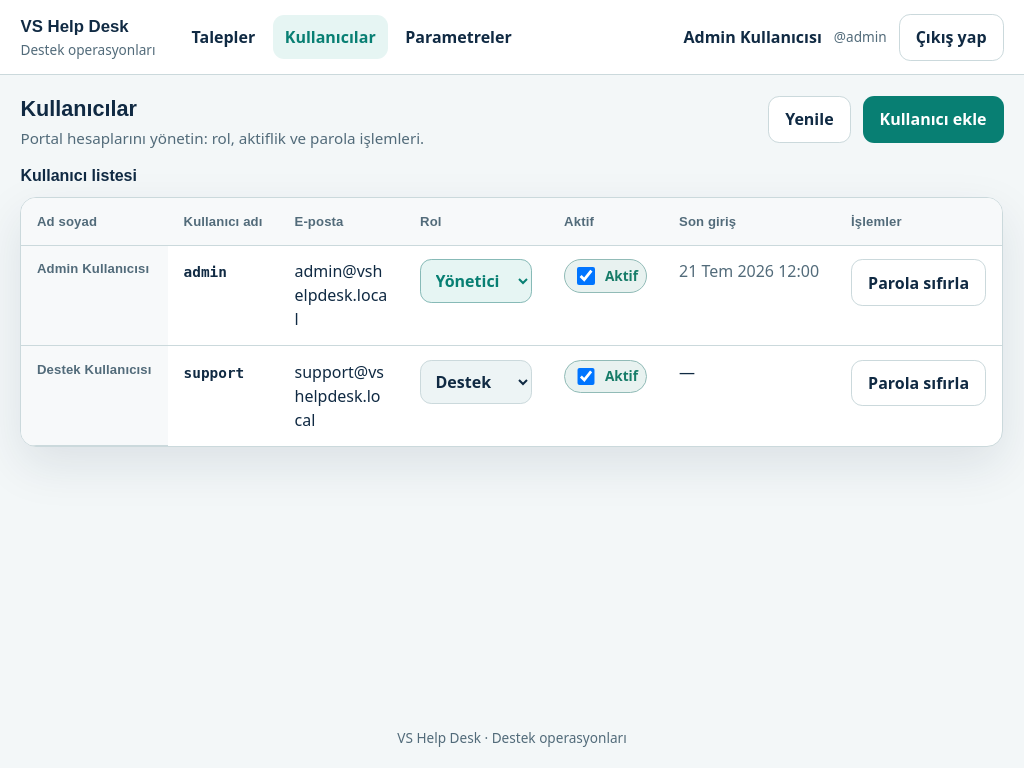
UsersPage › opens create dialog and submits a new user
Expected: the table is shown, [22,198,1003,446]
Click the button "Kullanıcı ekle".
click(933, 119)  # box [863,96,1004,143]
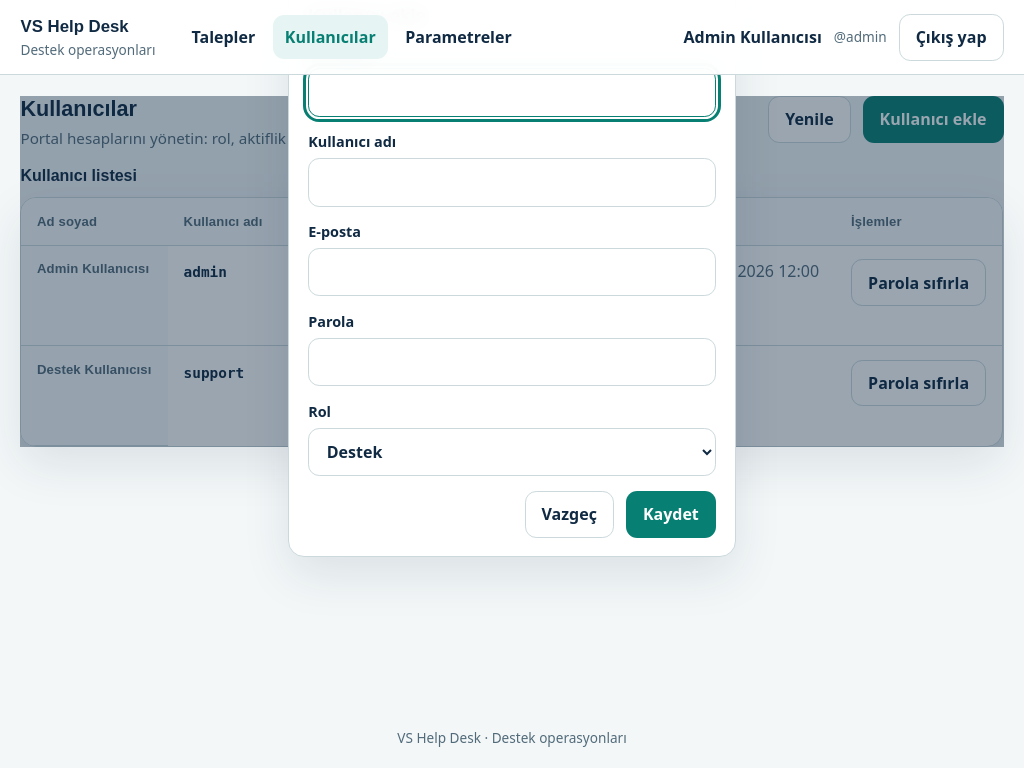
Type "Yeni Destek" into the field labelled "Ad soyad".
click(512, 92); type("Yeni Destek")  # box [308,68,716,117]
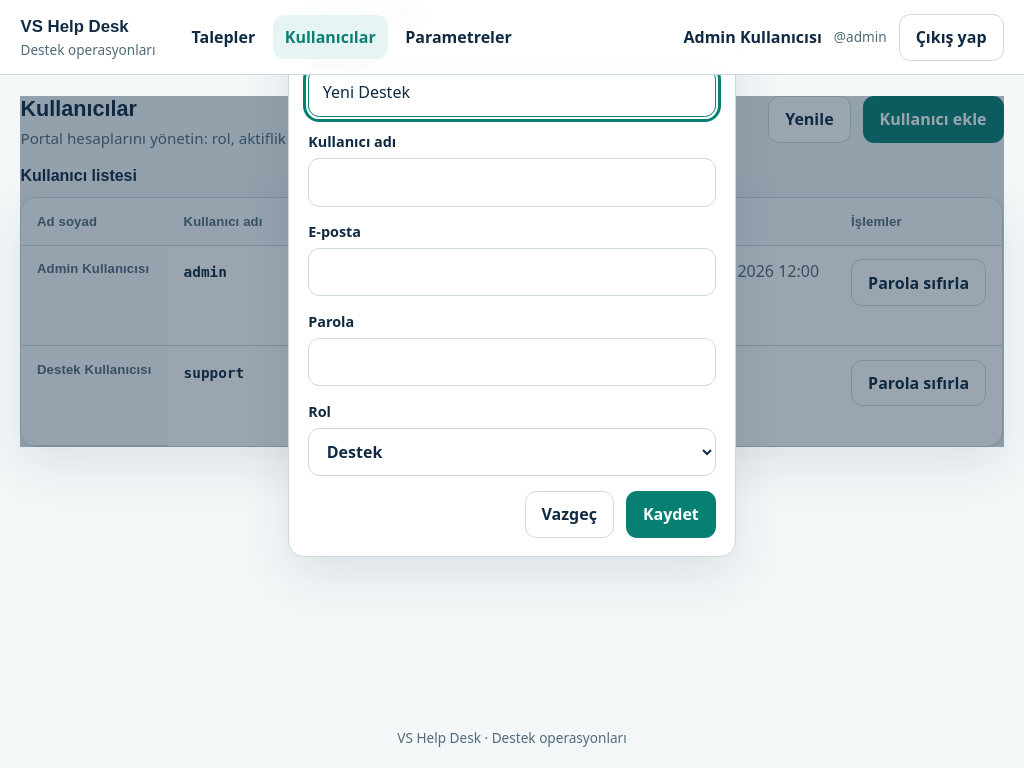
Type "support2" into the field labelled "Kullanıcı adı".
click(512, 182); type("support2")  # box [308,158,716,206]
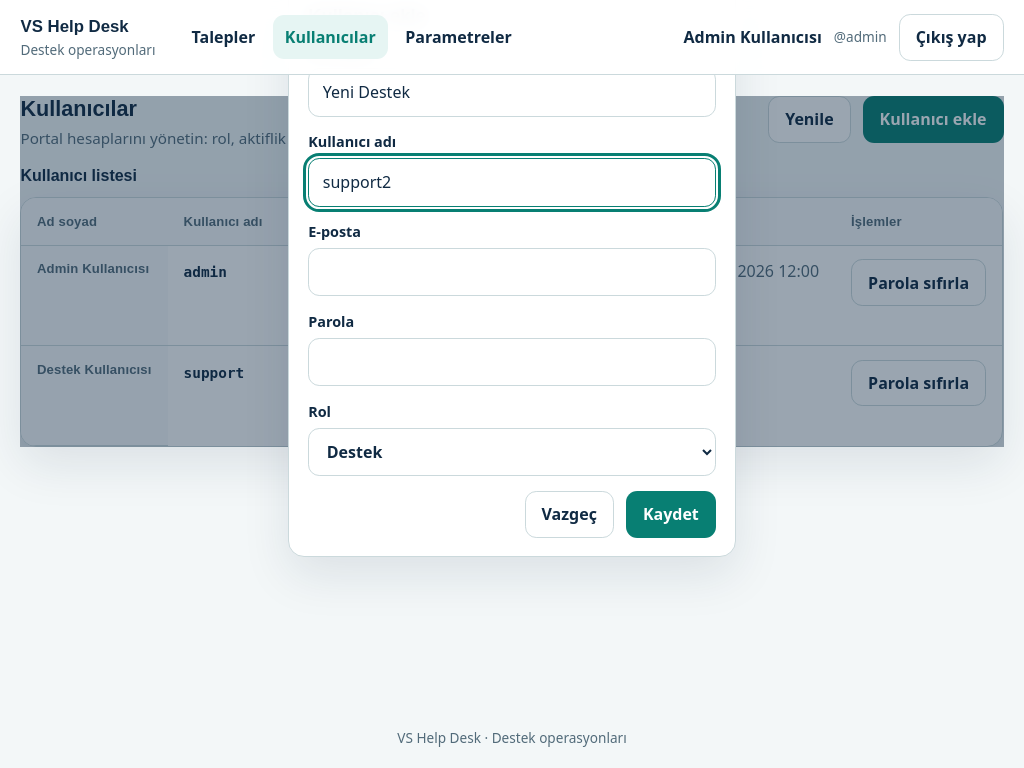
Type "support2@example.test" into the field labelled "E-posta".
click(512, 272); type("support2@example.test")  # box [308,248,716,296]
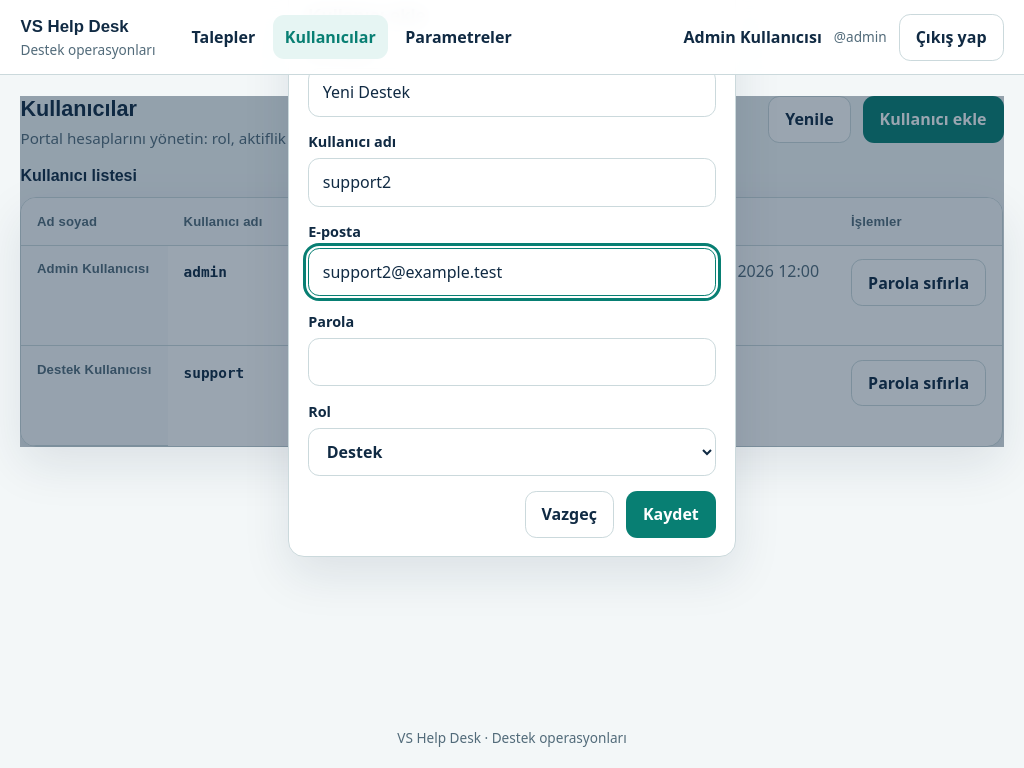
Type "Password12345!" into the password field labelled "Parola".
click(512, 362); type("Password12345!")  # box [308,338,716,386]
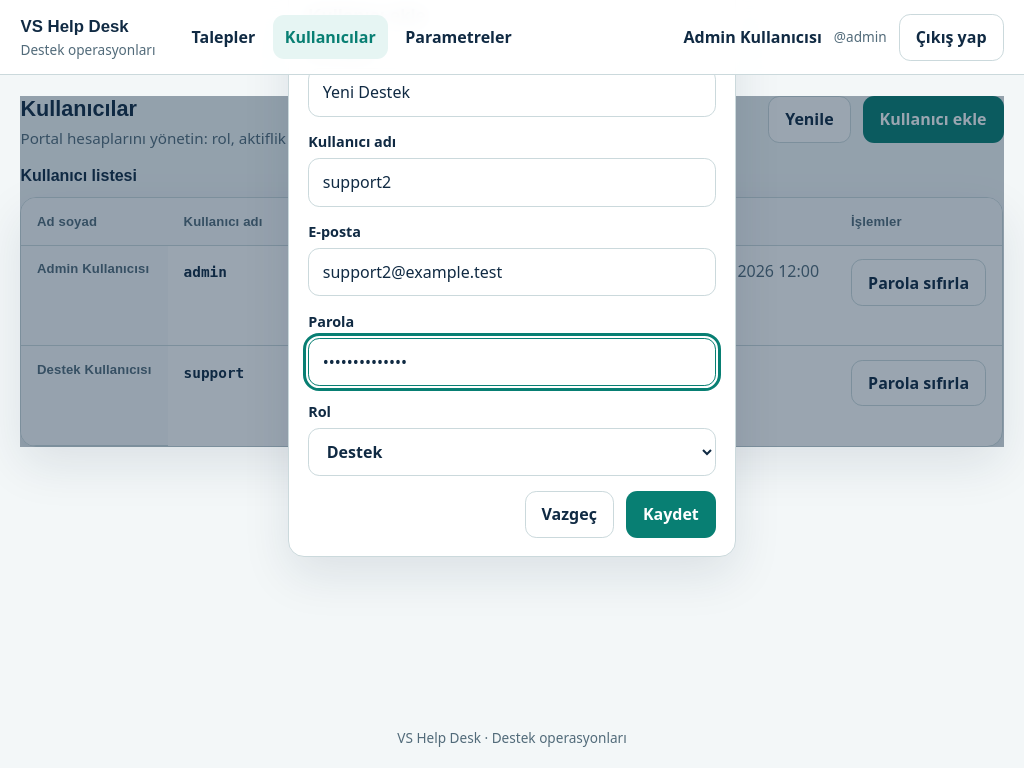
Click the button "Kaydet".
click(671, 514)  # box [626,491,716,538]
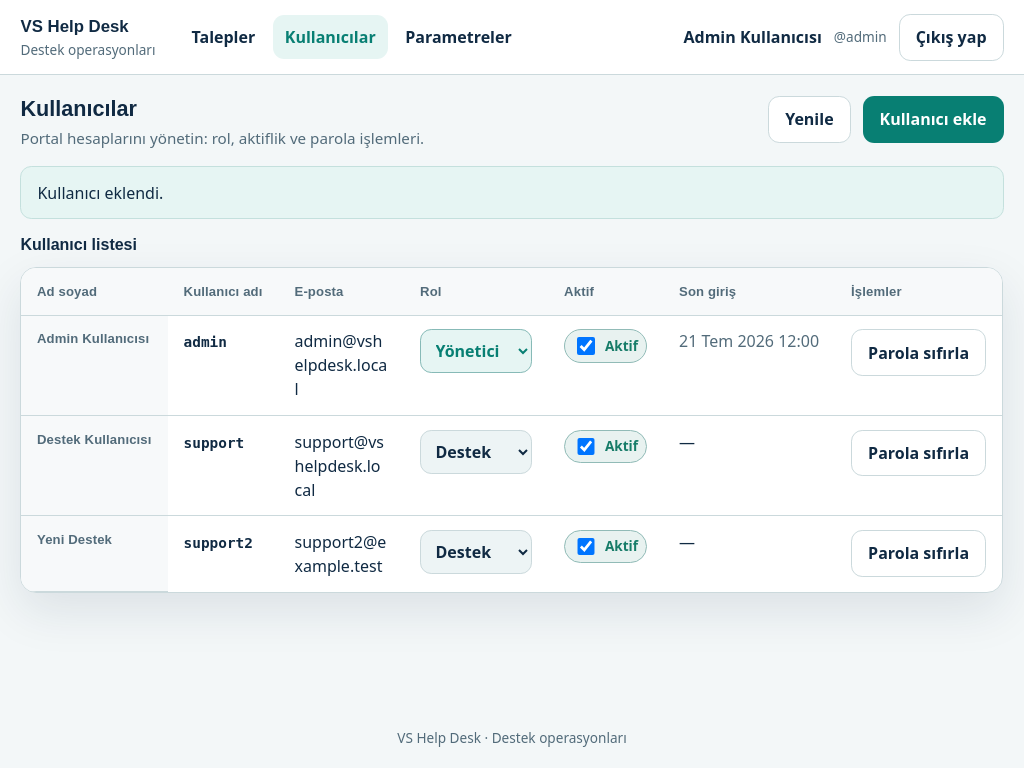
Expected: the text "Kullanıcı eklendi." is shown, [20,166,1004,219]
Expected: the column heading "Yeni Destek" is shown, [22,515,168,591]
